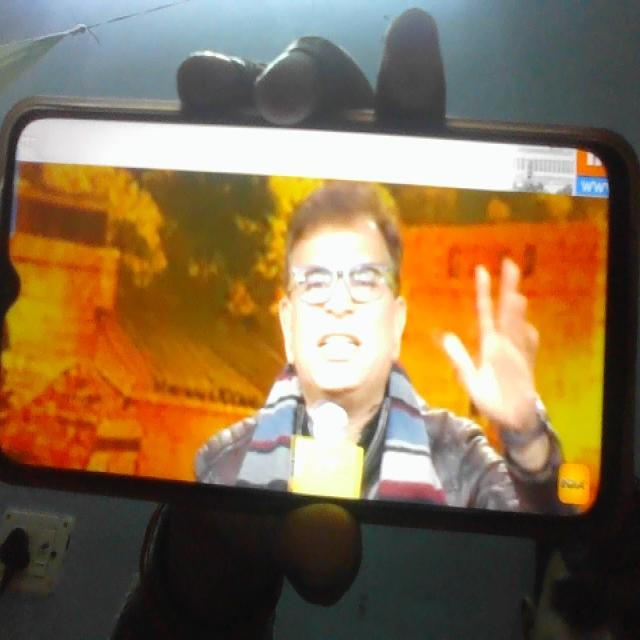fake: (274, 175, 408, 428)
